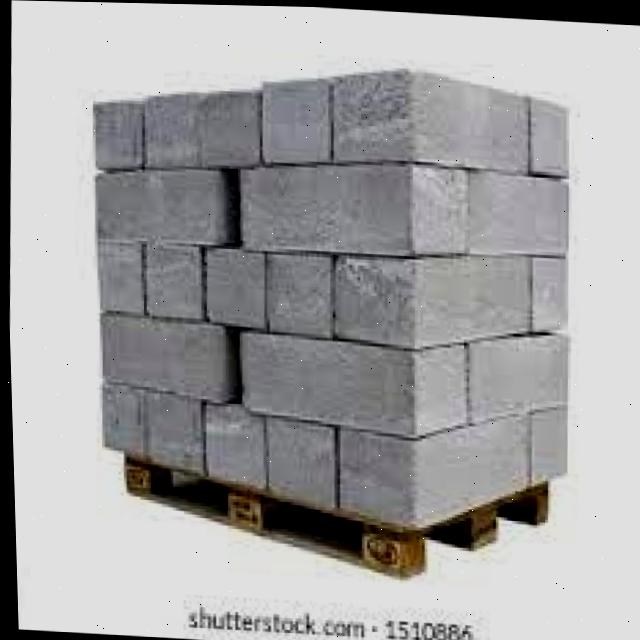bricks: (95, 70, 564, 521)
